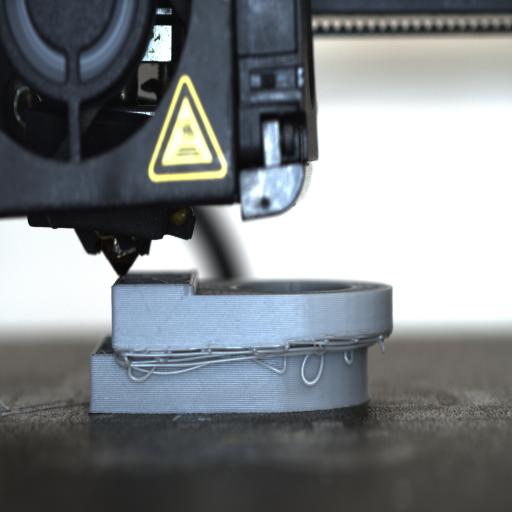layer_shift: (91, 328, 396, 367)
